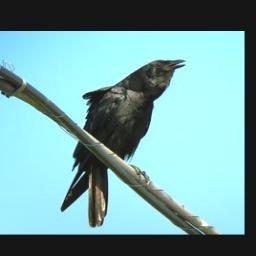Crow: (59, 57, 186, 229)
